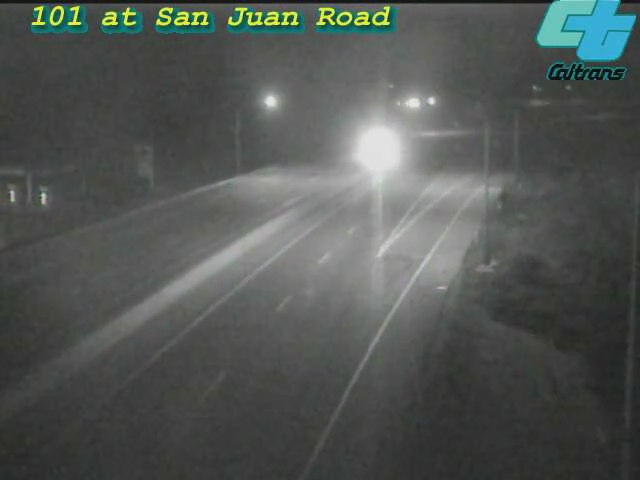vehicle: (348, 125, 398, 175)
